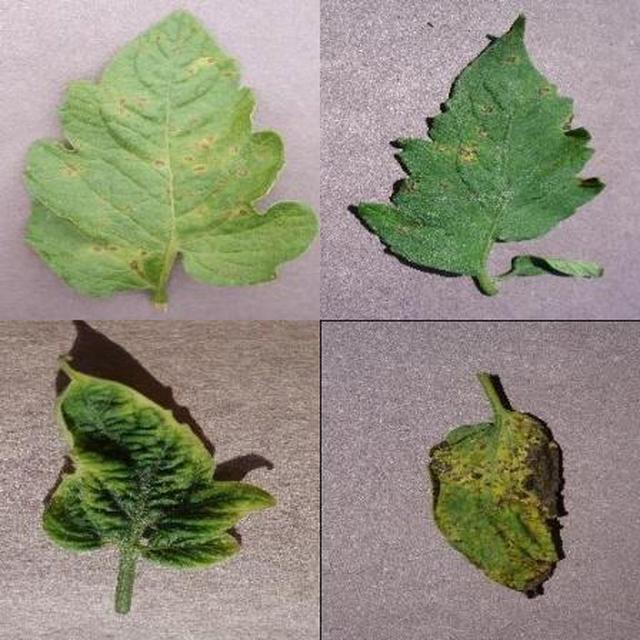Septoria Leaf: (196, 206, 640, 640)
